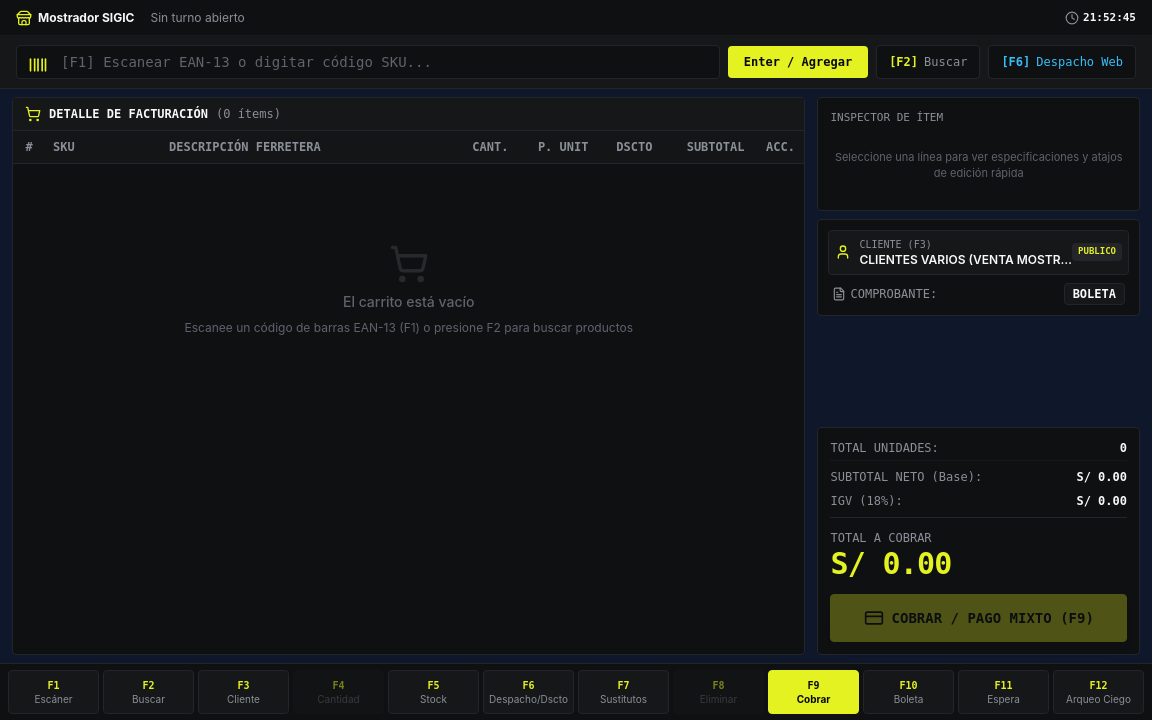
Scenario: Despacho Ligero en Tienda de Pedidos Web (RF-POS-011) › valida la Guía Interna de Traslado y confirma entrega con estado ENTREGADO
# Abrir despacho web desde cabecera
Click the text "Despacho Web" at (1080, 62), box [1036,54,1123,70]
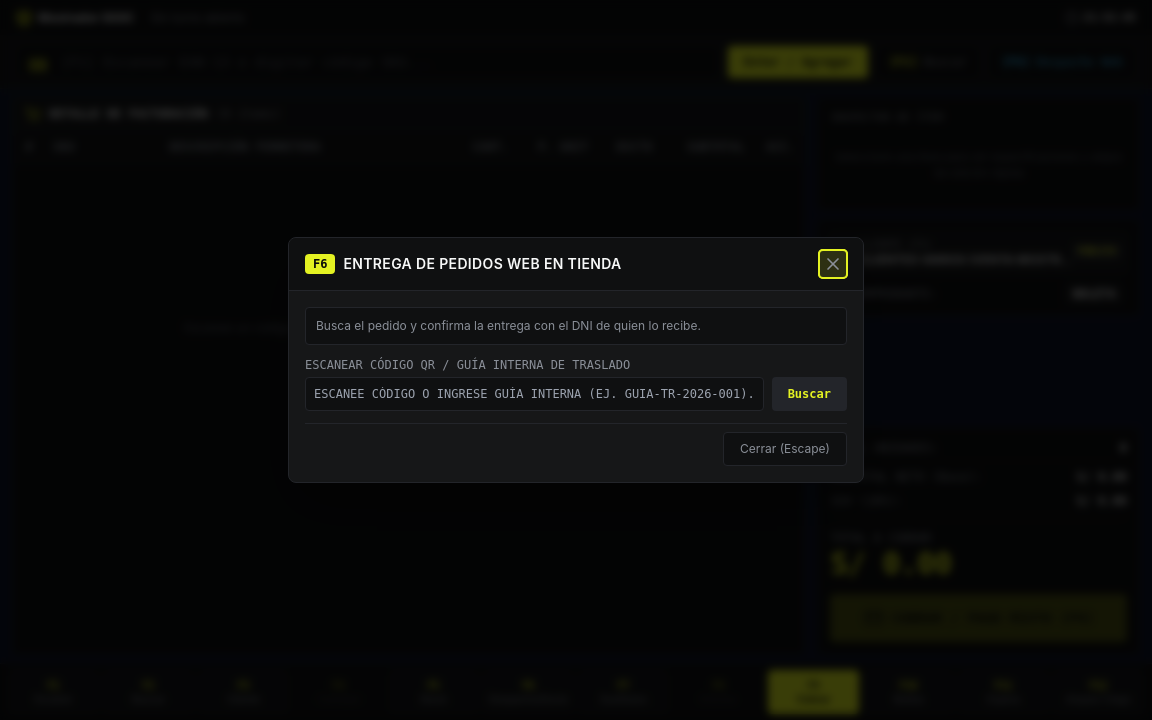
Expected: the heading "Entrega de pedidos web en tienda" is shown, [344,254,622,274]
# Buscar por Guía Interna
Replace the text in the field with placeholder "Escanee código o ingrese Guía Interna" with "GUIA-TR-2026-001" at (534, 394), box [305,377,764,411]
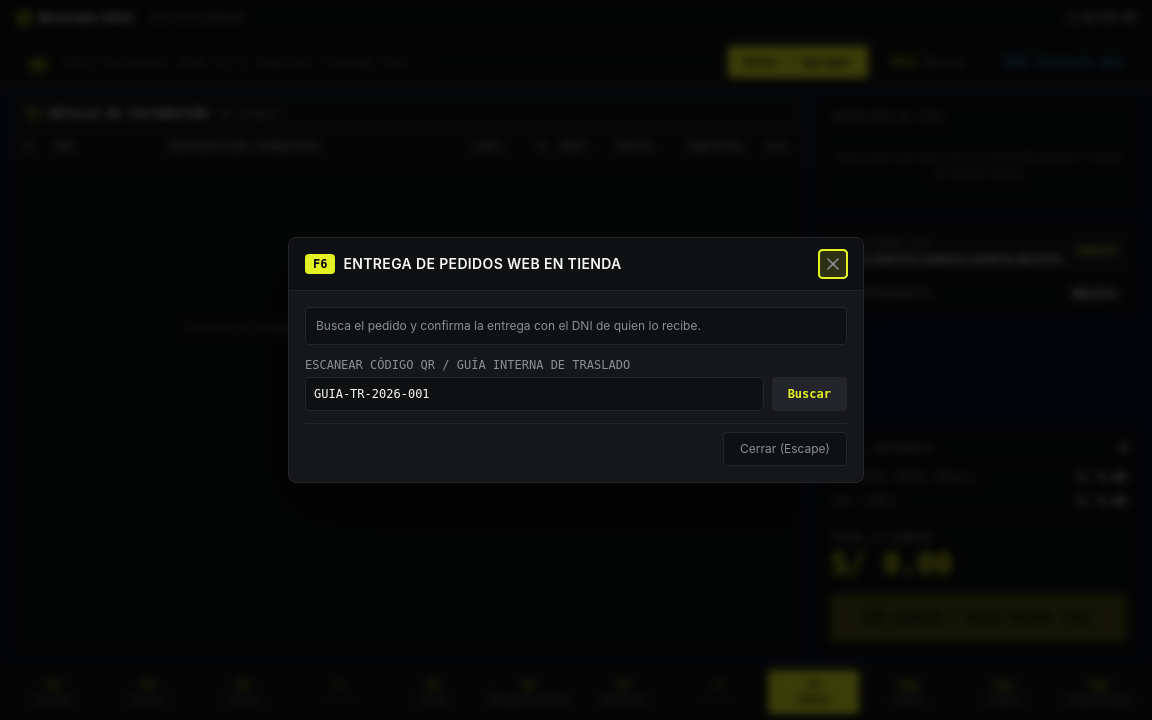
Click the button "Buscar" at (809, 394), box [772,377,847,411]
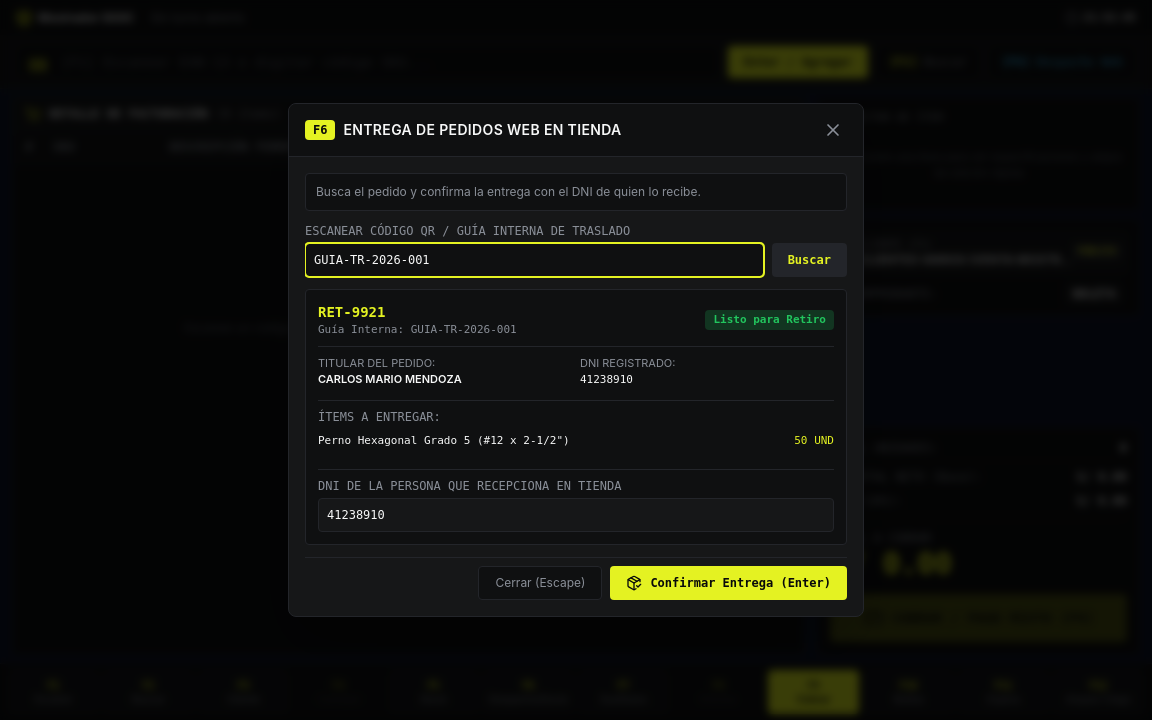
Expected: the text "RET-9921" is shown, [318,304,385,320]
Expected: the text "CARLOS MARIO MENDOZA" is shown, [318,372,462,386]
Expected: the text "Listo para Retiro" is shown, [705,310,834,330]
# Confirmar entrega
Click the button "Confirmar Entrega (Enter)" at (729, 583), box [610,566,847,600]
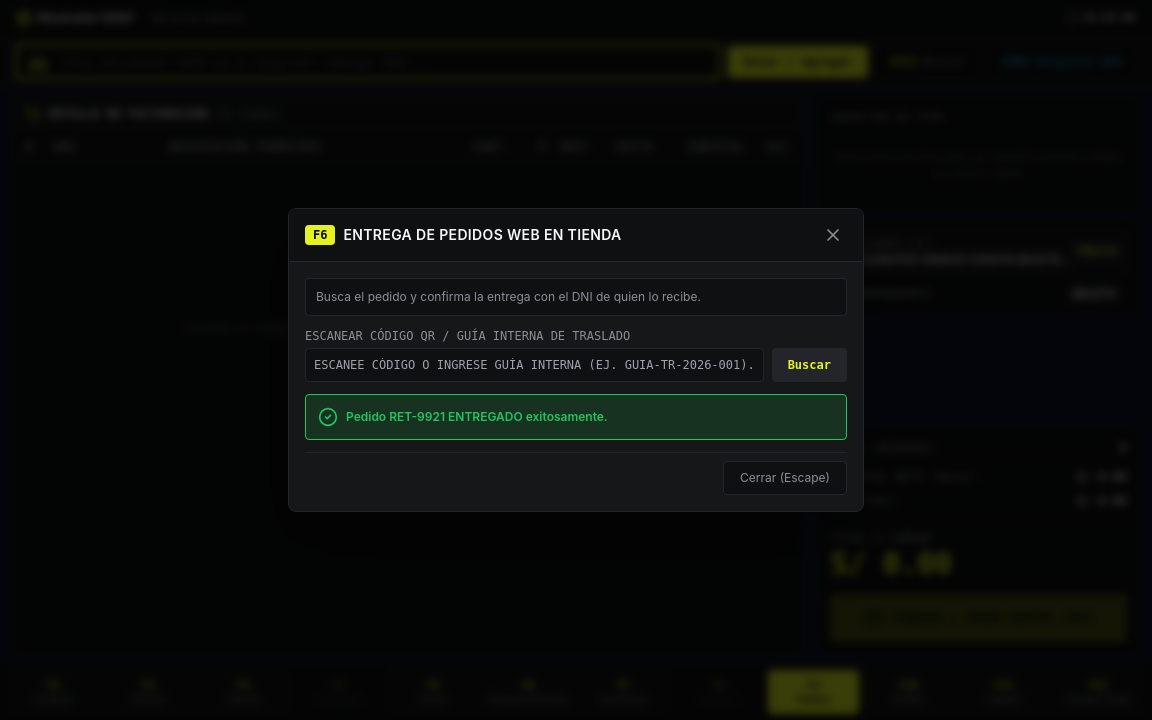
Expected: the text "Pedido RET-9921 ENTREGADO exitosamente." is shown, [346,409,608,425]
